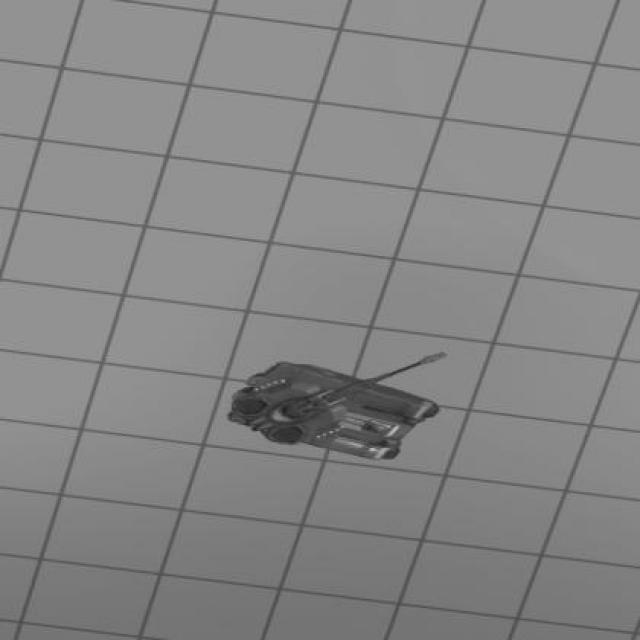tank: (226, 349, 450, 463)
